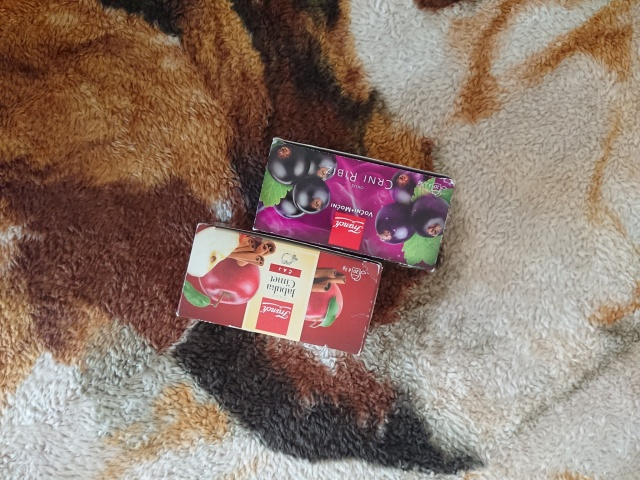Franck Apple Cinnamon Tea 60g: (171, 220, 386, 360)
Franck Black Currant Tea 60g: (246, 134, 458, 276)
